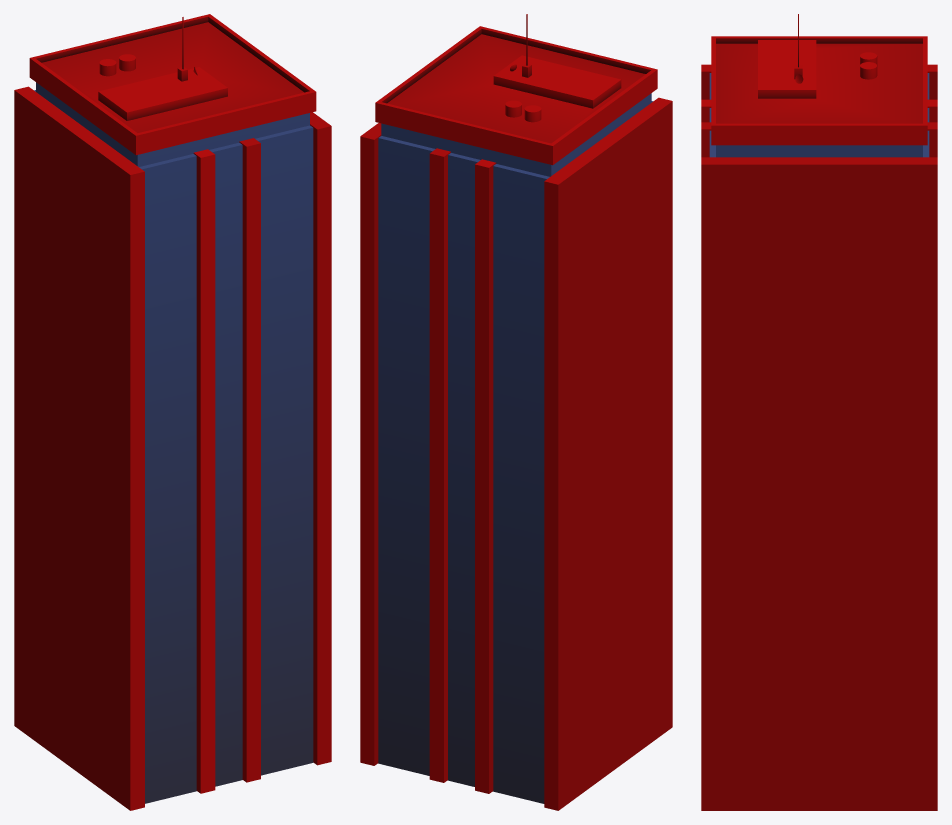
Rendered from buildings-industrial-traditionalskyscraper_v6.fbx.
The picture shows the model from 3 angles, left to right: view 1: azimuth 30°, elevation 25°; view 2: azimuth 150°, elevation 25°; view 3: azimuth 270°, elevation 25°; orthographic projection. The views are drawn at different scales.
Parts seen in each view (by area): view 1: TraditionalSkyscraper_v6_base, TraditionalSkyscraper_v6_windowRefl; view 2: TraditionalSkyscraper_v6_base, TraditionalSkyscraper_v6_windowRefl; view 3: TraditionalSkyscraper_v6_base, TraditionalSkyscraper_v6_windowRefl.
Boxes of the visible parts, x1,y1,x2,y2 form: TraditionalSkyscraper_v6_base: [14, 14, 331, 810]; TraditionalSkyscraper_v6_windowRefl: [34, 82, 313, 803]; TraditionalSkyscraper_v6_base: [360, 14, 672, 810]; TraditionalSkyscraper_v6_windowRefl: [378, 93, 652, 803]; TraditionalSkyscraper_v6_base: [701, 14, 937, 810]; TraditionalSkyscraper_v6_windowRefl: [709, 73, 929, 157].
Bounding box in the file's own units: 21 × 73.26 × 21.
